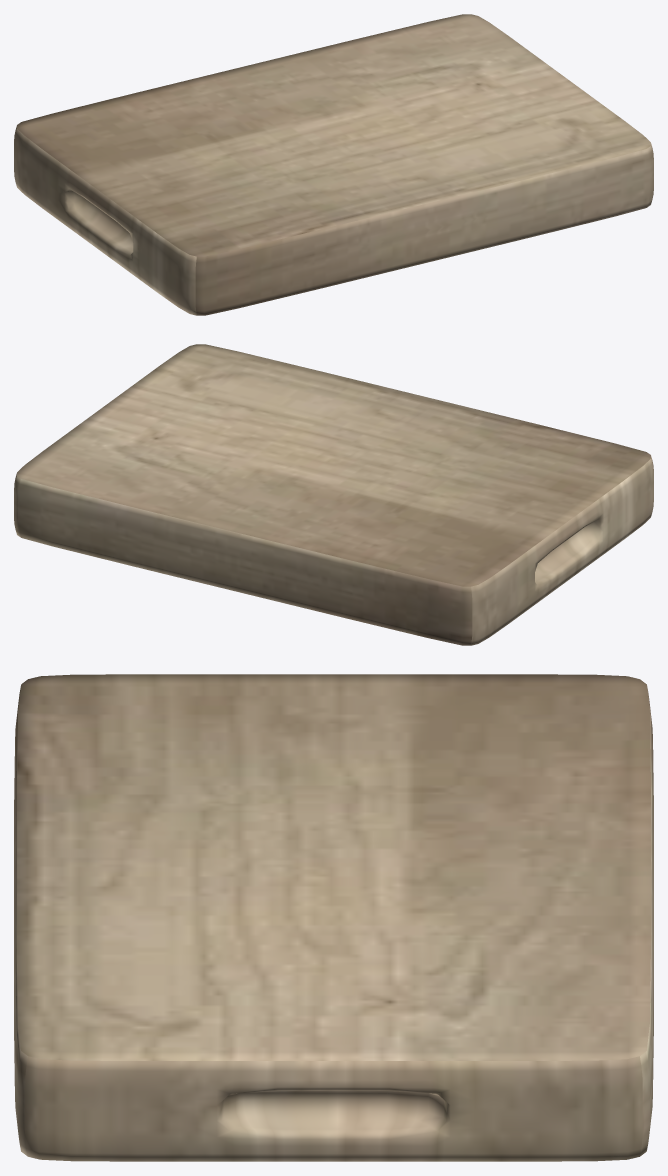
Rendered from fit-board.glb.
The picture shows the model from 3 angles, top to bottom: view 1: azimuth 30°, elevation 25°; view 2: azimuth 150°, elevation 25°; view 3: azimuth 270°, elevation 25°; orthographic projection. The views are drawn at different scales.
Bounding box in the file's own units: 37.58 × 4.51 × 26.03.
Materials: 1 (1 with a texture image).
